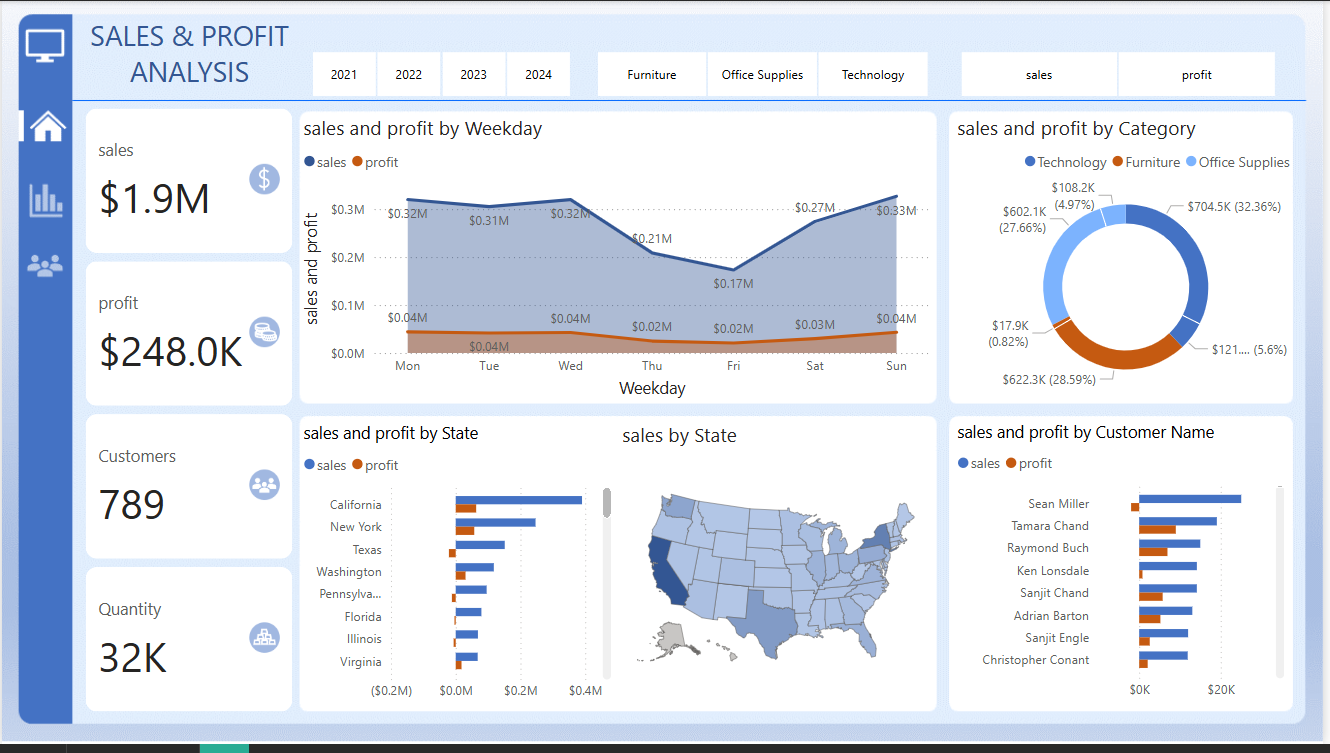

Layout of this report page (visuals, bound fields, positions):
{"tool":"powerbi","page":{"name":"Overview","canvas":[1280,720],"ordinal":0},"visuals":[{"type":"cardVisual","fields":{"Data":["_Measures.sales","_Measures.profit","_Measures.Customers","_Measures.Quantity"]},"box":[76.3,99.3,210.6,596.8],"z":0},{"type":"slicer","fields":{"Values":["Sales_Profit_Param.Sales_Profit_Param"]},"box":[903,42.6,353.2,56.4],"z":1000},{"type":"donutChart","fields":{"Y":["_Measures.profit"],"Category":["Data.Category"]},"box":[920.5,110.2,336.9,279.3],"z":2000},{"type":"clusteredBarChart","fields":{"Y":["_Measures.profit"],"Category":["Data.State"]},"box":[286.8,407,308.1,279.3],"z":3000},{"type":"shapeMap","fields":{"Value":["_Measures.profit"],"Category":["Data.State"]},"box":[595,407,308,279],"z":4000},{"type":"clusteredBarChart","fields":{"Y":["_Measures.profit"],"Category":["Data.Customer Name"]},"box":[920.5,405.8,326.9,279.3],"z":5000},{"type":"slicer","fields":{"Values":["Calendar.Year"]},"box":[274.3,42.6,299.3,56.4],"z":6000},{"type":"slicer","fields":{"Values":["Data.Category"]},"box":[551.1,42.6,369.5,56.4],"z":7000},{"type":"textbox","box":[76.4,10,210.4,100.2],"z":8000},{"type":"areaChart","fields":{"Y":["_Measures.profit"],"Category":["Calendar.Weekday"]},"box":[286.8,110.2,616.2,279.3],"z":9000}]}

Visuals, with their boxes on the page's 1280x720 design canvas (x1, y1, x2, y2). These are canvas units, not pixel positions in the 1330x753 screenshot, which may show the page scaled, cropped or inside an application window:
cardVisual - _Measures.sales x _Measures.profit: rect(76, 99, 287, 696)
slicer - Sales_Profit_Param.Sales_Profit_Param: rect(903, 43, 1256, 99)
donutChart - _Measures.profit x Data.Category: rect(920, 110, 1257, 390)
clusteredBarChart - _Measures.profit x Data.State: rect(287, 407, 595, 686)
shapeMap - _Measures.profit x Data.State: rect(595, 407, 903, 686)
clusteredBarChart - _Measures.profit x Data.Customer Name: rect(920, 406, 1247, 685)
slicer - Calendar.Year: rect(274, 43, 574, 99)
slicer - Data.Category: rect(551, 43, 921, 99)
textbox: rect(76, 10, 287, 110)
areaChart - _Measures.profit x Calendar.Weekday: rect(287, 110, 903, 390)
